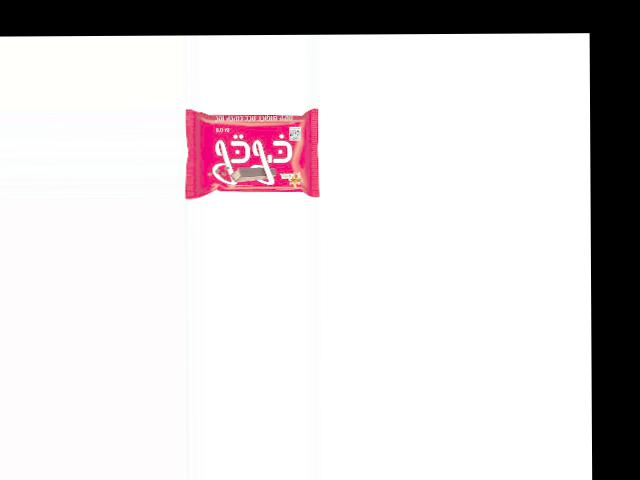chocolate: (185, 106, 318, 198)
